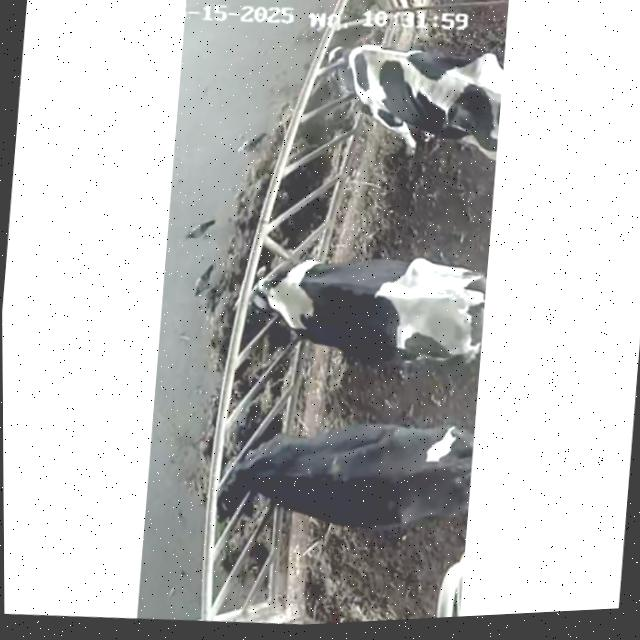eat: (263, 20, 434, 137), (172, 398, 325, 526), (209, 227, 359, 351)
